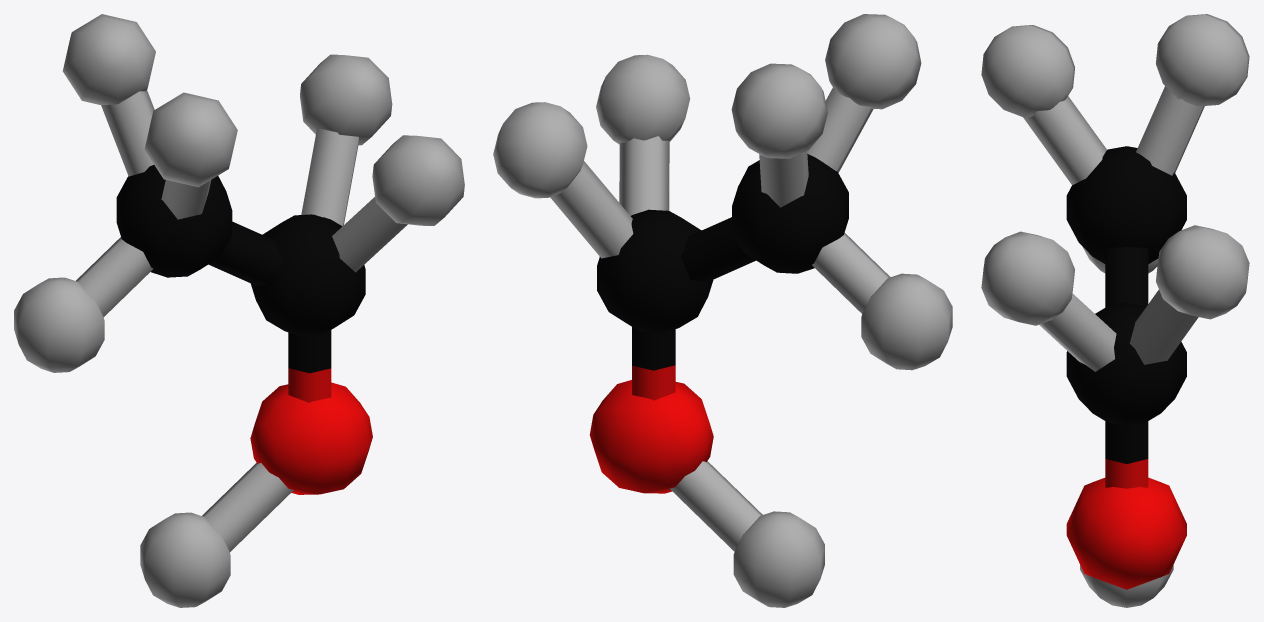
Rendered from ethanol.fbx.
3 views of the same model, side by side, from view 1: azimuth 30°, elevation 25°; view 2: azimuth 150°, elevation 25°; view 3: azimuth 270°, elevation 25° (orthographic).
Parts seen in each view (by area): view 1: pSphere6, pSphere2, pSphere1, pSphere5, pSphere12, pSphere10, pSphere9, pSphere8, pSphere11, pCylinder11, pCylinder12, pCylinder3 (+5 smaller); view 2: pSphere6, pSphere2, pSphere1, pSphere8, pSphere9, pSphere11, pSphere12, pSphere5, pSphere10, pCylinder11, pCylinder12, pCylinder10 (+5 smaller); view 3: pSphere6, pSphere1, pSphere2, pSphere10, pSphere11, pSphere8, pSphere9, pCylinder8, pCylinder9, pCylinder10, pCylinder11, pCylinder4 (+2 smaller).
Boxes of the visible parts, x1=… form: pSphere6: x1=250, y1=382, x2=372, y2=494; pSphere2: x1=250, y1=214, x2=365, y2=336; pSphere1: x1=116, y1=165, x2=232, y2=277; pSphere5: x1=14, y1=277, x2=104, y2=372; pSphere12: x1=140, y1=512, x2=230, y2=607; pSphere10: x1=372, y1=135, x2=464, y2=225; pSphere9: x1=144, y1=92, x2=237, y2=187; pSphere8: x1=62, y1=14, x2=155, y2=104; pSphere11: x1=300, y1=54, x2=392, y2=145; pCylinder11: x1=301, y1=128, x2=358, y2=226; pCylinder12: x1=202, y1=463, x2=293, y2=552; pCylinder3: x1=76, y1=237, x2=153, y2=317; pSphere6: x1=589, y1=380, x2=713, y2=493; pSphere2: x1=597, y1=209, x2=713, y2=333; pSphere1: x1=732, y1=154, x2=848, y2=273; pSphere8: x1=731, y1=63, x2=827, y2=158; pSphere9: x1=825, y1=14, x2=921, y2=109; pSphere11: x1=493, y1=102, x2=587, y2=198; pSphere12: x1=733, y1=511, x2=824, y2=607; pSphere5: x1=861, y1=273, x2=952, y2=370; pSphere10: x1=596, y1=54, x2=690, y2=144; pCylinder11: x1=550, y1=161, x2=633, y2=258; pCylinder12: x1=670, y1=461, x2=762, y2=551; pCylinder10: x1=619, y1=136, x2=669, y2=215; pSphere6: x1=1066, y1=477, x2=1186, y2=589; pSphere1: x1=1066, y1=146, x2=1186, y2=263; pSphere2: x1=1066, y1=303, x2=1186, y2=425; pSphere10: x1=981, y1=231, x2=1074, y2=325; pSphere11: x1=1156, y1=225, x2=1249, y2=319; pSphere8: x1=1156, y1=14, x2=1249, y2=106; pSphere9: x1=981, y1=25, x2=1074, y2=117; pCylinder8: x1=1023, y1=96, x2=1106, y2=185; pCylinder9: x1=1136, y1=86, x2=1204, y2=175; pCylinder10: x1=1039, y1=293, x2=1116, y2=371; pCylinder11: x1=1129, y1=290, x2=1198, y2=364; pCylinder4: x1=1105, y1=421, x2=1148, y2=488.
Bounding box in the file's own units: 185 × 246 × 105.
